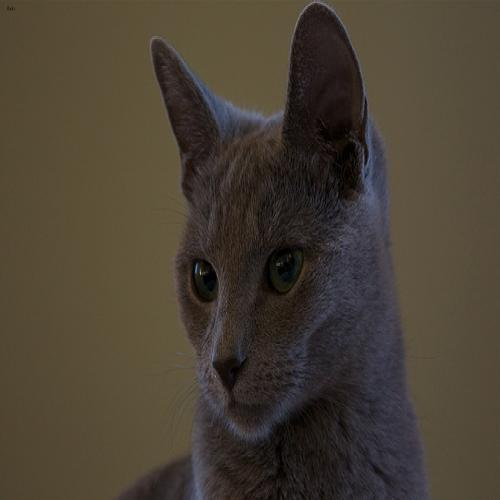rblue: (139, 1, 400, 453)
